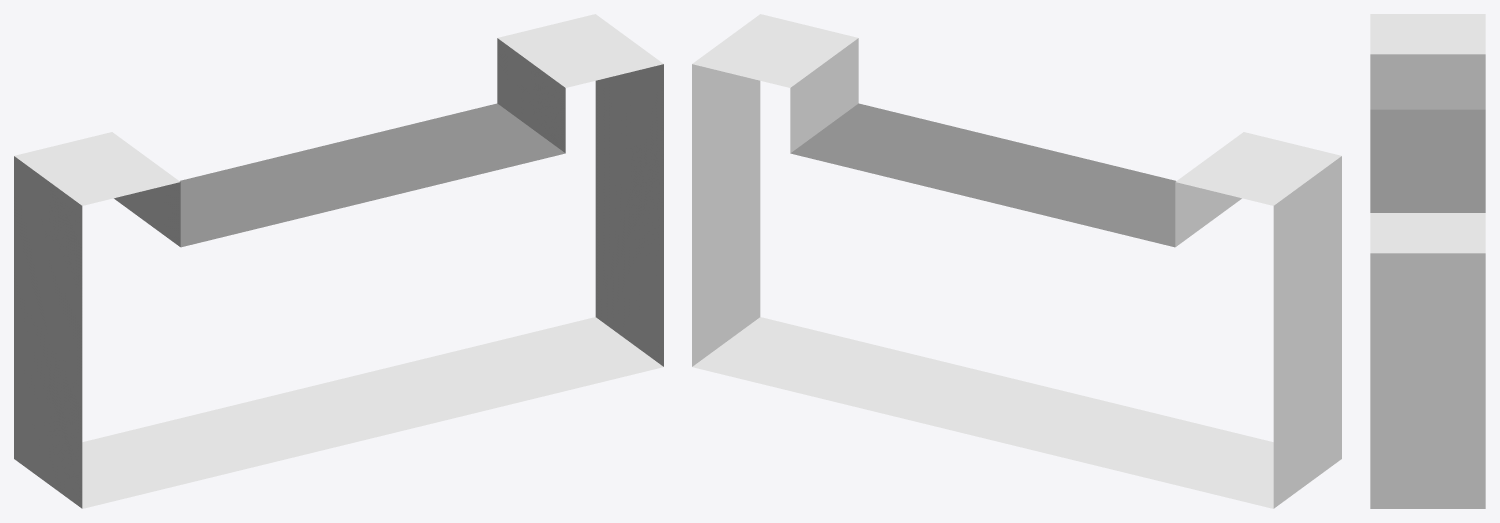
File: road_tile.fbx
3 views of the same model, side by side, from view 1: azimuth 30°, elevation 25°; view 2: azimuth 150°, elevation 25°; view 3: azimuth 270°, elevation 25° (orthographic). The views are drawn at different scales.
Visible parts, largest first — view 1: Cube.001; view 2: Cube.001; view 3: Cube.001.
Boxes of the visible parts, x1,y1,x2,y2 form: Cube.001: (14,14,663,508); Cube.001: (692,14,1341,508); Cube.001: (1370,14,1485,508).
Bounding box in the file's own units: 244 × 121 × 49.72.
